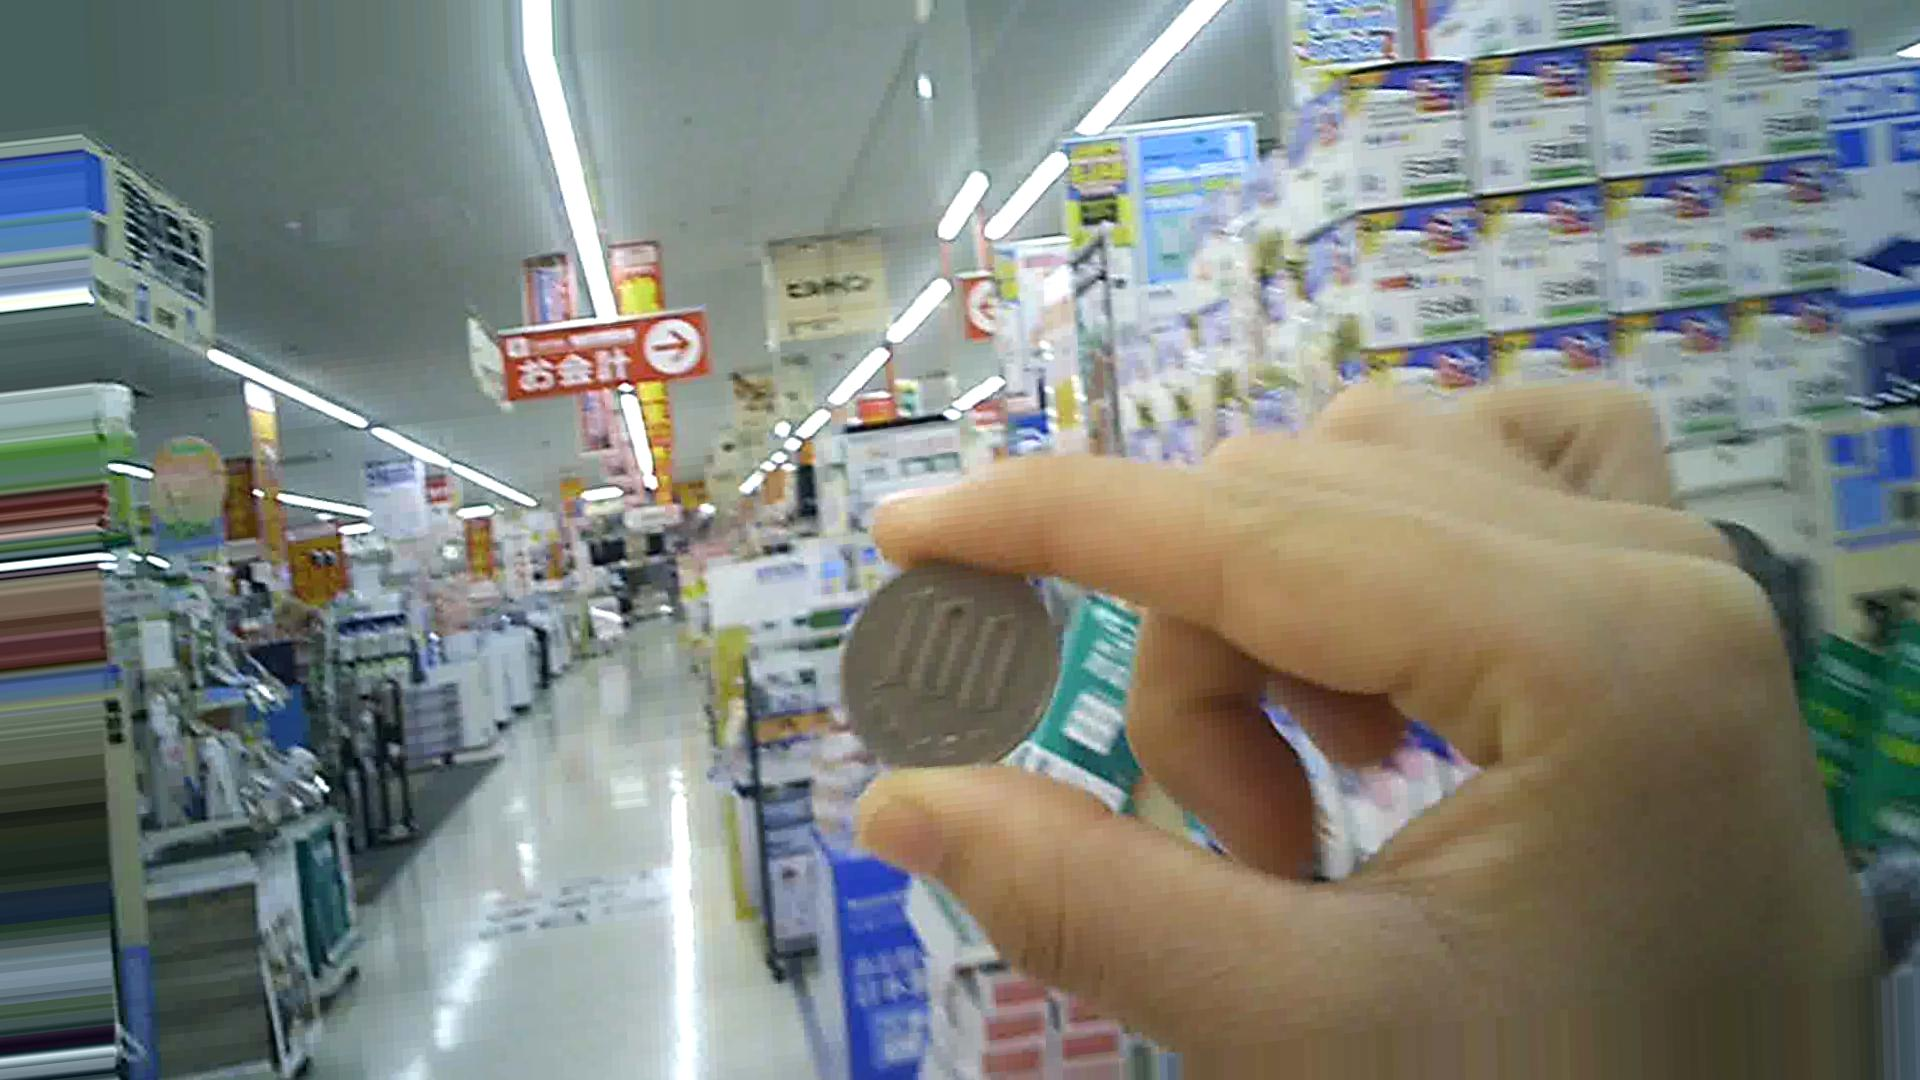100 Yen: (841, 551, 1065, 770)
